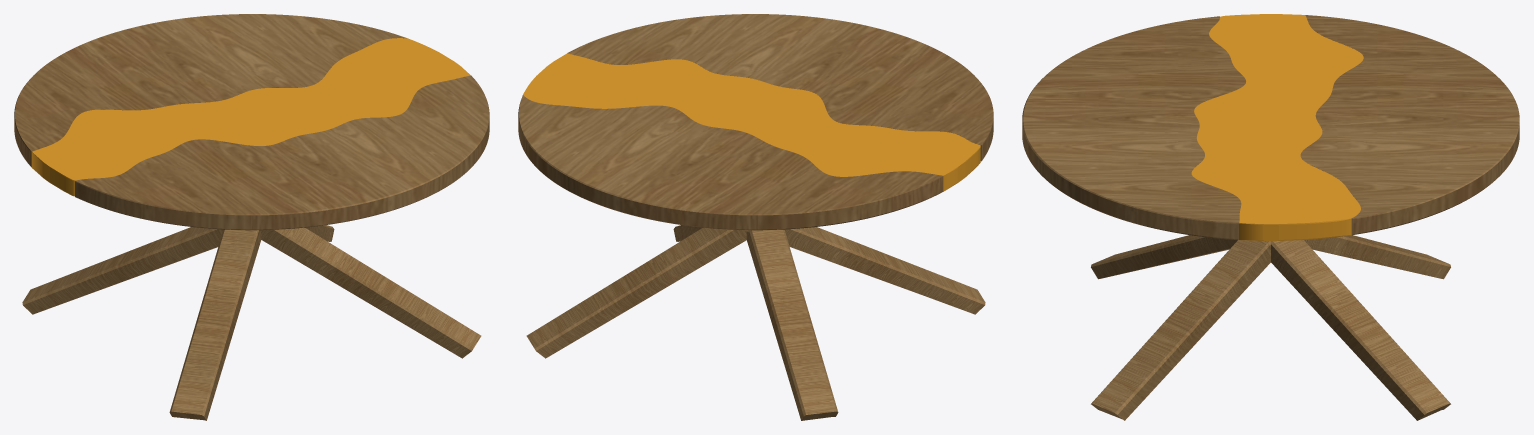
Rendered from round-oak-epoxy-amber.glb.
3 renders of one model, left to right at view 1: azimuth 30°, elevation 25°; view 2: azimuth 150°, elevation 25°; view 3: azimuth 270°, elevation 25°, orthographic. The views are drawn at different scales.
Parts seen in each view (by area): view 1: Wood_Round_EpoxyFar, Wood_Round_EpoxyNear, Resin_Round, Base_Round; view 2: Wood_Round_EpoxyNear, Wood_Round_EpoxyFar, Resin_Round, Base_Round; view 3: Wood_Round_EpoxyFar, Wood_Round_EpoxyNear, Resin_Round, Base_Round.
Boxes of the visible parts, box(x1,y1,x2,y2) form: Wood_Round_EpoxyFar: box(75, 75, 489, 230); Wood_Round_EpoxyNear: box(14, 14, 406, 166); Resin_Round: box(31, 38, 470, 196); Base_Round: box(22, 225, 481, 420); Wood_Round_EpoxyNear: box(518, 95, 943, 230); Wood_Round_EpoxyFar: box(567, 14, 993, 161); Resin_Round: box(523, 53, 980, 191); Base_Round: box(526, 225, 985, 420); Wood_Round_EpoxyFar: box(1022, 16, 1245, 239); Wood_Round_EpoxyNear: box(1300, 15, 1519, 235); Resin_Round: box(1191, 14, 1363, 240); Base_Round: box(1091, 235, 1450, 420).
Bounding box in the file's own units: 1.52 × 0.762 × 1.52.
Materials: 2 (1 with a texture image).
